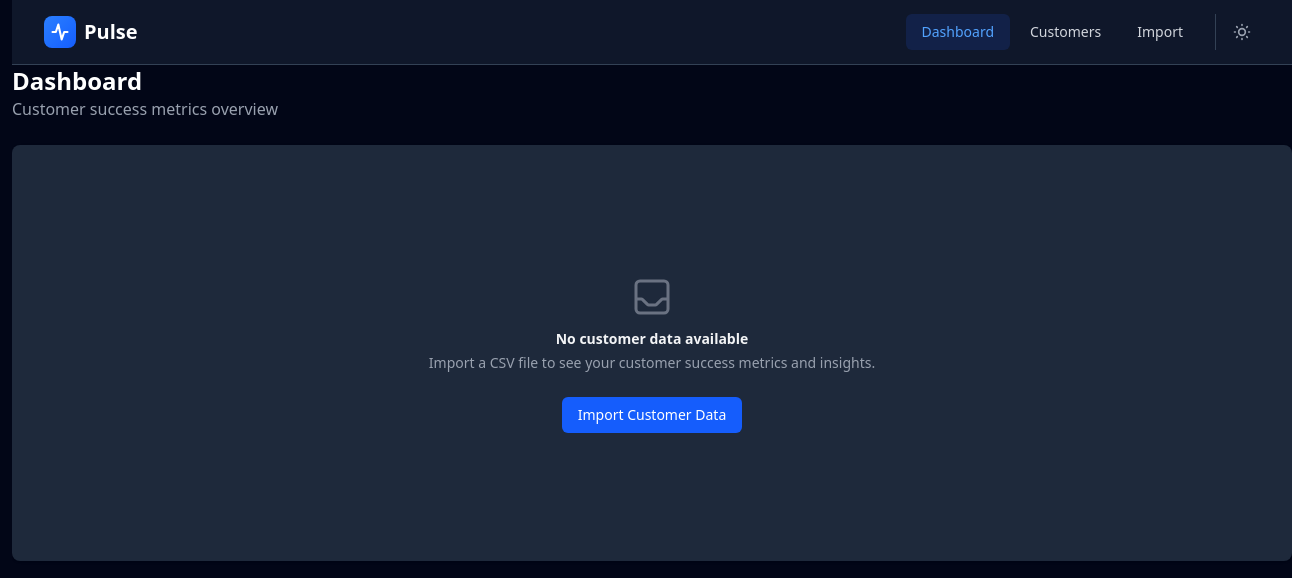
Scenario: Navigation Flow Integration › Header Navigation › should navigate from dashboard to customers
Click the link "Customers": (1066, 32) [1030,22,1101,41]
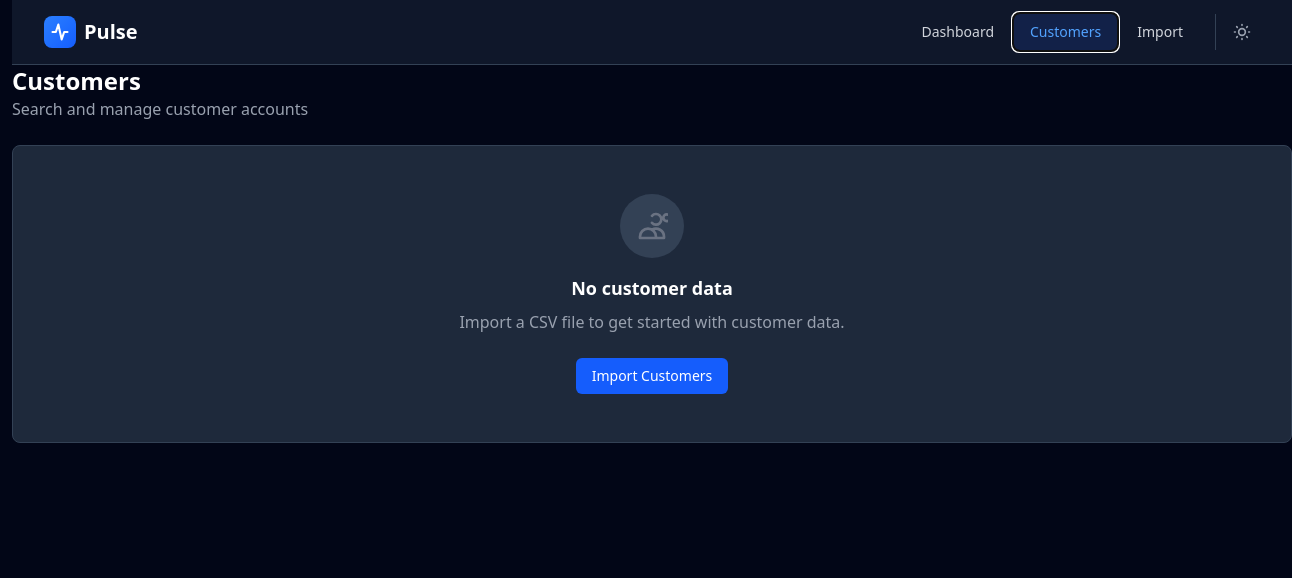
Expected: the heading "Customers" is shown, [12,64,141,97]
